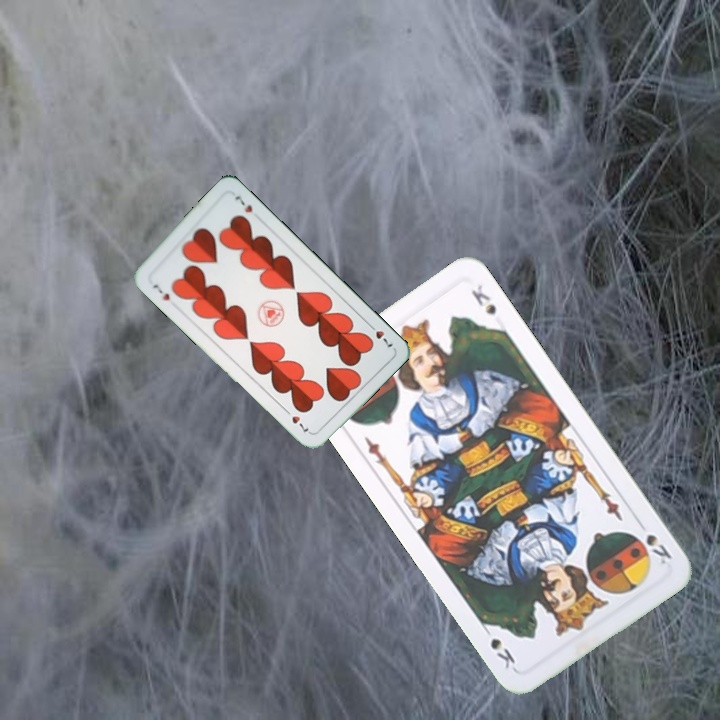H7: (364, 319, 396, 352), (148, 280, 172, 303)
SK: (629, 516, 675, 567)
